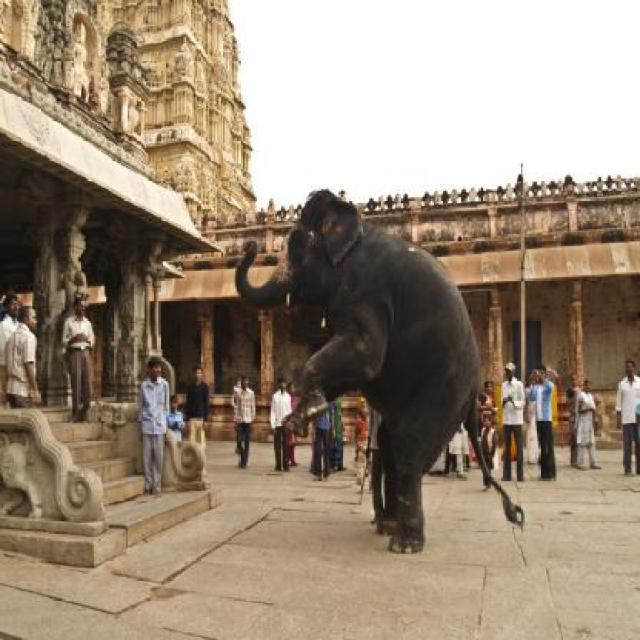Elephant: (236, 195, 482, 552)
